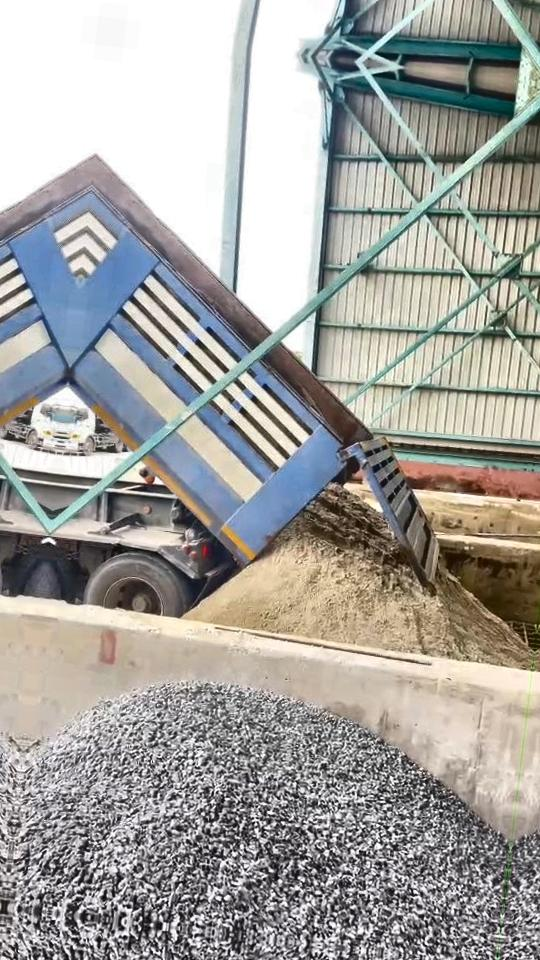gravel: (4, 684, 506, 960)
sand: (184, 485, 531, 666)
